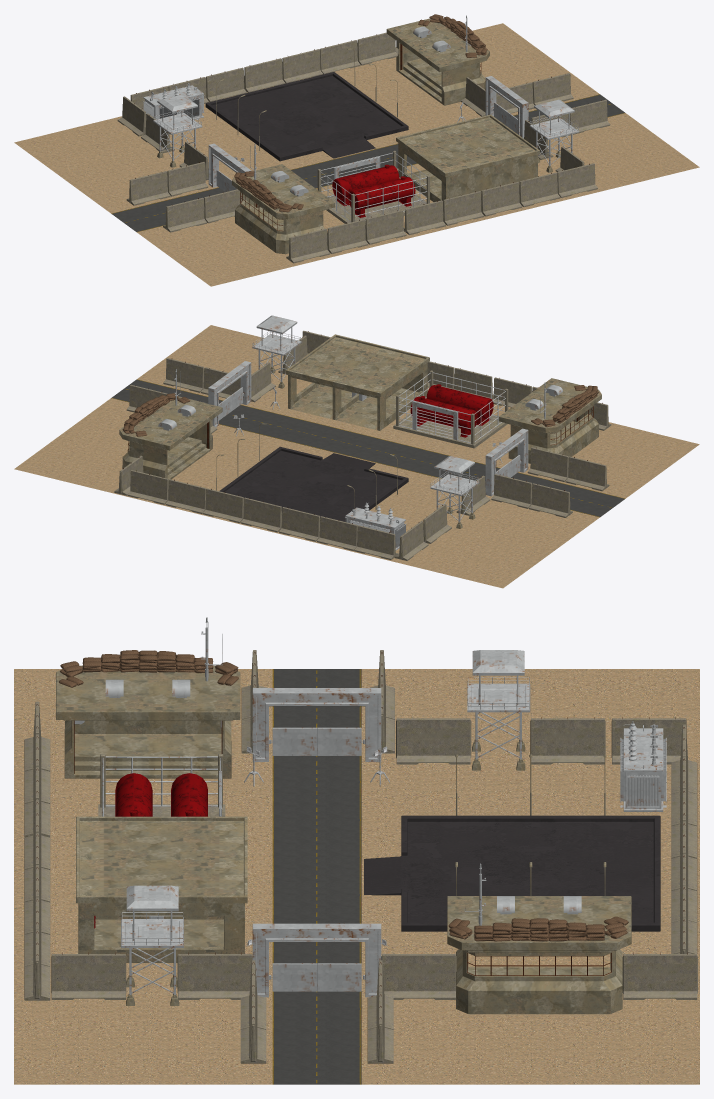
File: DM arena 7.glb
3 views of the same model, one above another, from view 1: azimuth 30°, elevation 25°; view 2: azimuth 150°, elevation 25°; view 3: azimuth 270°, elevation 25° (orthographic). The views are drawn at different scales.
Parts seen in each view (by area): view 1: Ground, Parking, Garage, Military_Outpost_2, Military_Outpost_1, Tank, Watchtower_1, Watchtower_2, Transformer, Gate_4, Fence_30, Fence_1 (+24 smaller); view 2: Ground, Garage, Parking, Military_Outpost_2, Military_Outpost_1, Tank, Watchtower_1, Watchtower_2, Gate_1, Transformer, Fence_1, Fence_25 (+22 smaller); view 3: Ground, Parking, Military_Outpost_1, Garage, Military_Outpost_2, Tank, Watchtower_2, Watchtower_1, Gate_1, Gate_4, Transformer, Fence_28 (+28 smaller).
Boxes of the visible parts, left/top/right/bottom form: Ground: left=14, top=23, right=699, bottom=286; Parking: left=205, top=48, right=408, bottom=161; Garage: left=396, top=114, right=539, bottom=203; Military_Outpost_2: left=386, top=14, right=489, bottom=105; Military_Outpost_1: left=232, top=143, right=334, bottom=254; Tank: left=317, top=150, right=429, bottom=224; Watchtower_1: left=153, top=94, right=202, bottom=167; Watchtower_2: left=529, top=99, right=578, bottom=172; Transformer: left=143, top=83, right=204, bottom=119; Gate_4: left=485, top=76, right=528, bottom=138; Fence_30: left=126, top=171, right=170, bottom=205; Fence_1: left=163, top=197, right=206, bottom=232; Ground: left=14, top=325, right=699, bottom=588; Garage: left=286, top=334, right=429, bottom=430; Parking: left=216, top=423, right=408, bottom=521; Military_Outpost_2: left=119, top=369, right=222, bottom=479; Military_Outpost_1: left=498, top=378, right=601, bottom=463; Tank: left=393, top=370, right=508, bottom=448; Watchtower_1: left=430, top=456, right=479, bottom=528; Watchtower_2: left=252, top=315, right=301, bottom=388; Gate_1: left=485, top=428, right=528, bottom=496; Transformer: left=345, top=502, right=406, bottom=550; Fence_1: left=565, top=456, right=609, bottom=491; Fence_25: left=354, top=525, right=398, bottom=559; Ground: left=14, top=669, right=699, bottom=1084; Parking: left=364, top=754, right=660, bottom=931; Military_Outpost_1: left=56, top=617, right=240, bottom=778; Garage: left=76, top=816, right=247, bottom=962; Military_Outpost_2: left=447, top=863, right=631, bottom=1014; Tank: left=98, top=754, right=225, bottom=816; Watchtower_2: left=121, top=885, right=183, bottom=1005; Watchtower_1: left=467, top=650, right=530, bottom=770; Gate_1: left=252, top=688, right=381, bottom=761; Gate_4: left=252, top=923, right=381, bottom=997; Transformer: left=620, top=721, right=666, bottom=811; Fence_28: left=396, top=718, right=471, bottom=764.
Bounding box in the file's own units: 53.09 × 8.29 × 37.03.
Materials: 2 (1 with a texture image).
